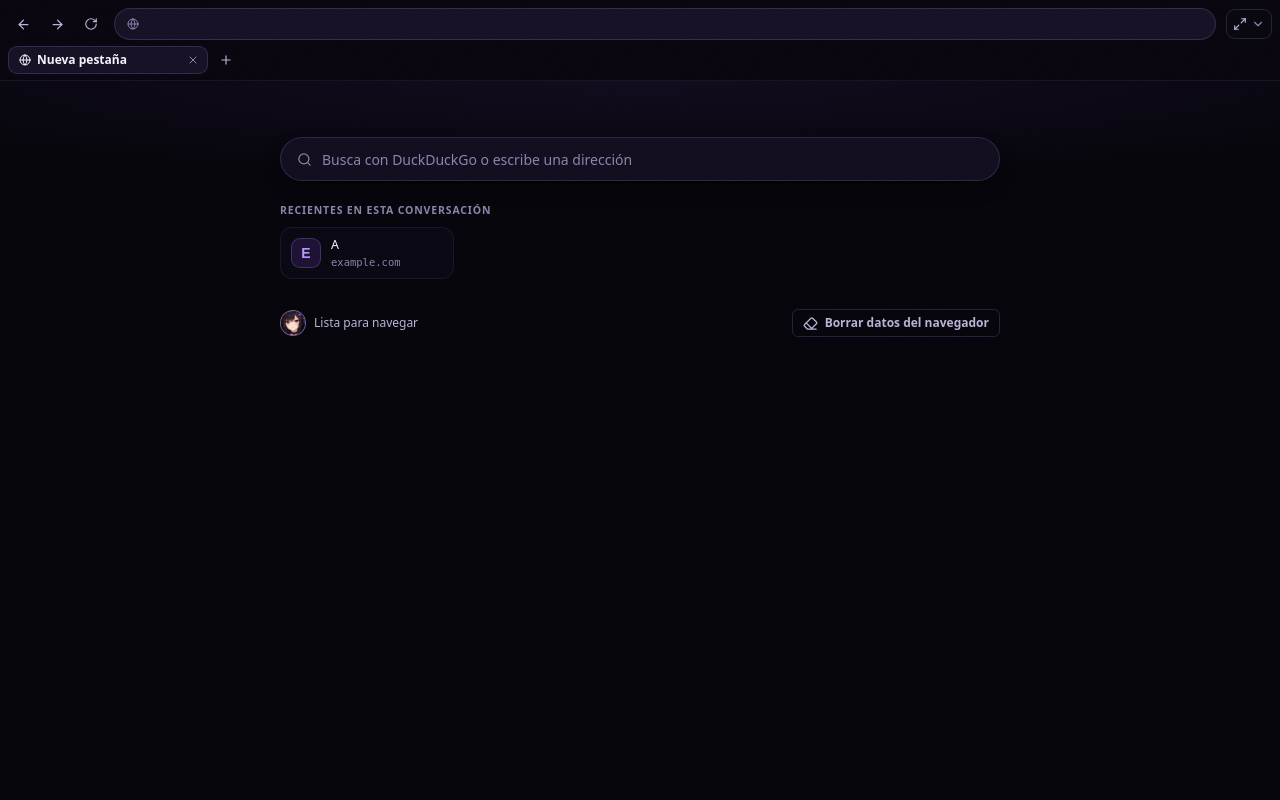
Test: página de inicio (#46) › «Borrar datos del navegador» pregunta antes y dice que se borró
Step 1. Click the button with test id "browser-clear-data" → click(896, 323), box x1=792 y1=309 x2=1000 y2=337
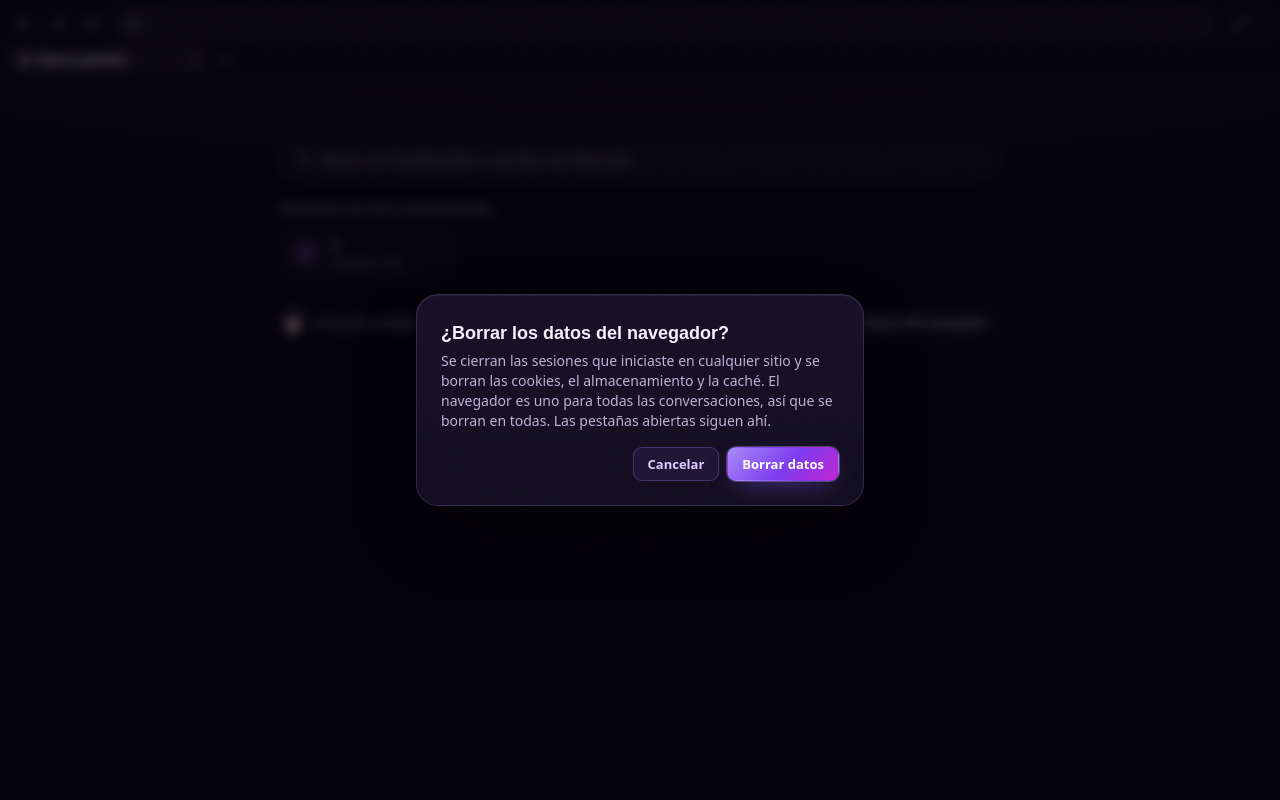
Step 2. Click the button "Borrar datos" → click(783, 464), box x1=727 y1=447 x2=839 y2=481
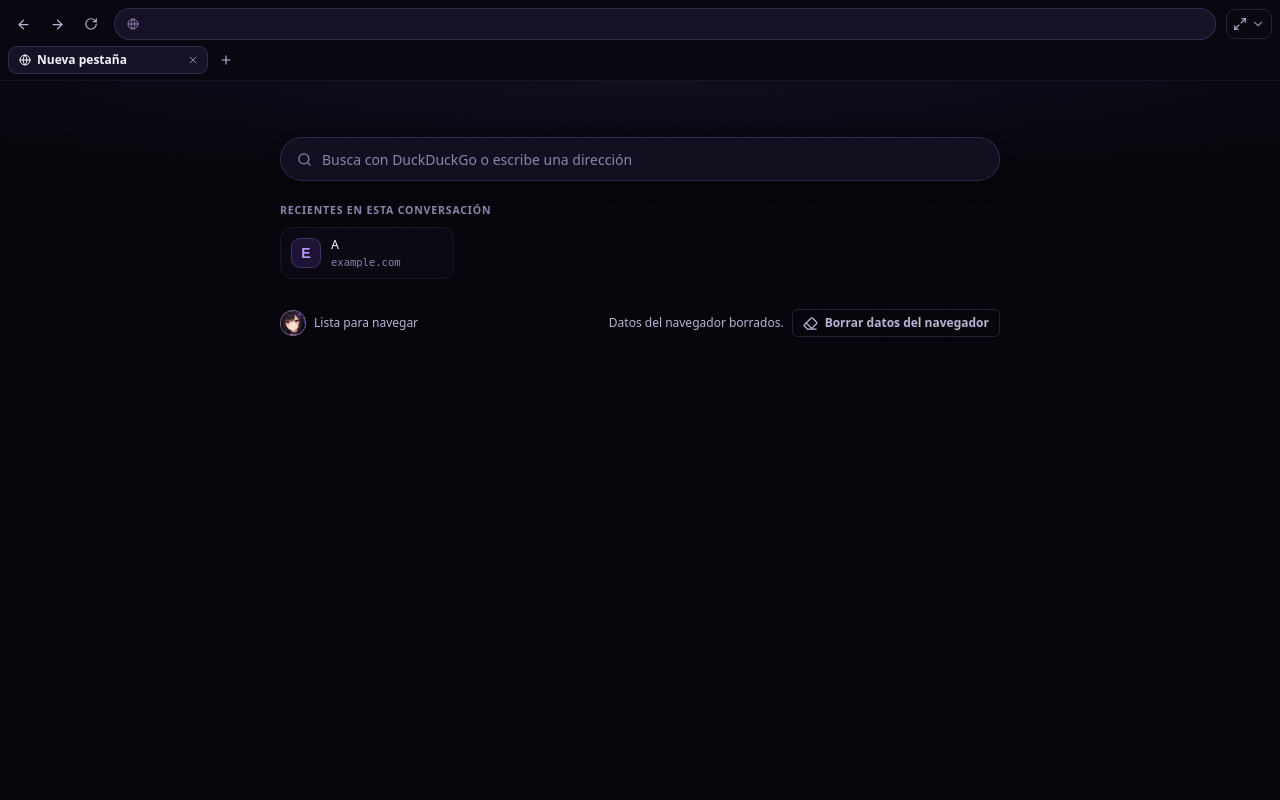
Check: the text "Datos del navegador borrados." is shown, box x1=609 y1=314 x2=784 y2=332
